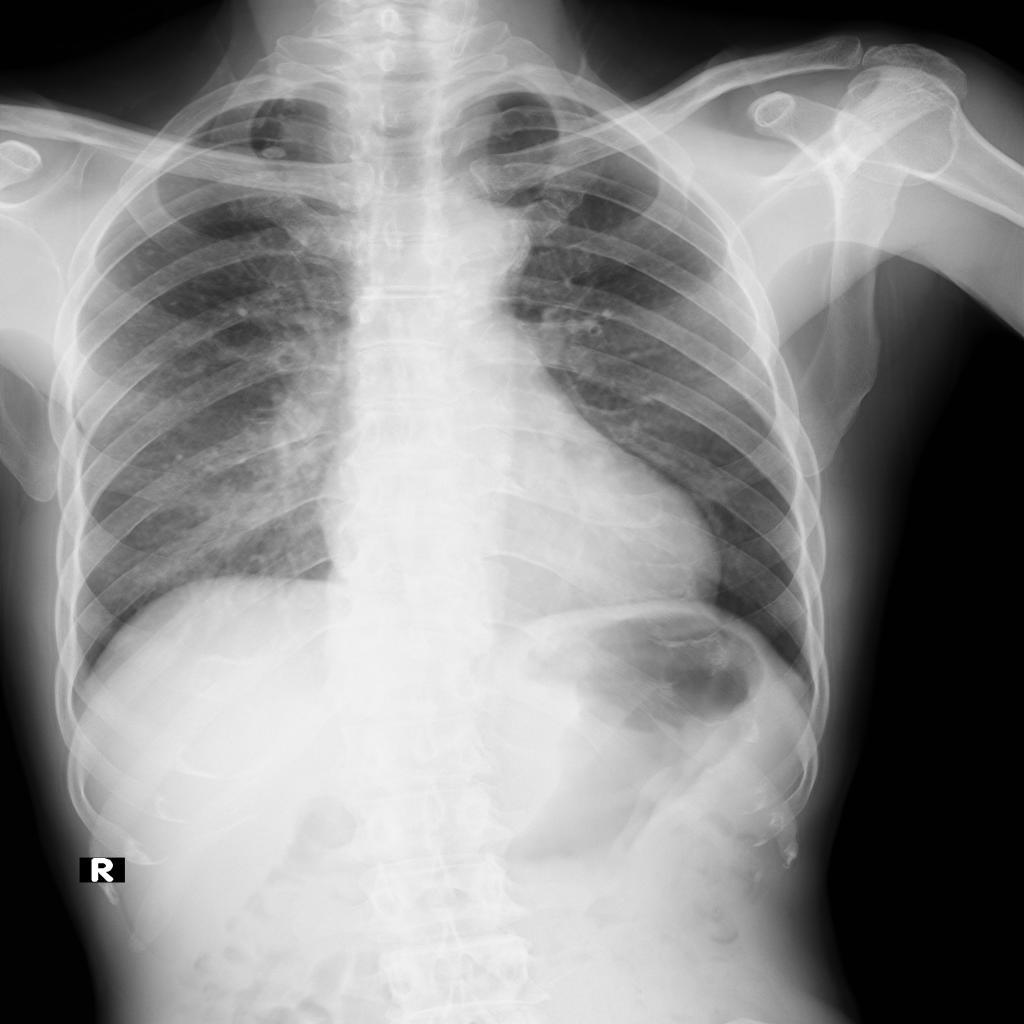Nodule: (259, 145, 289, 160)
